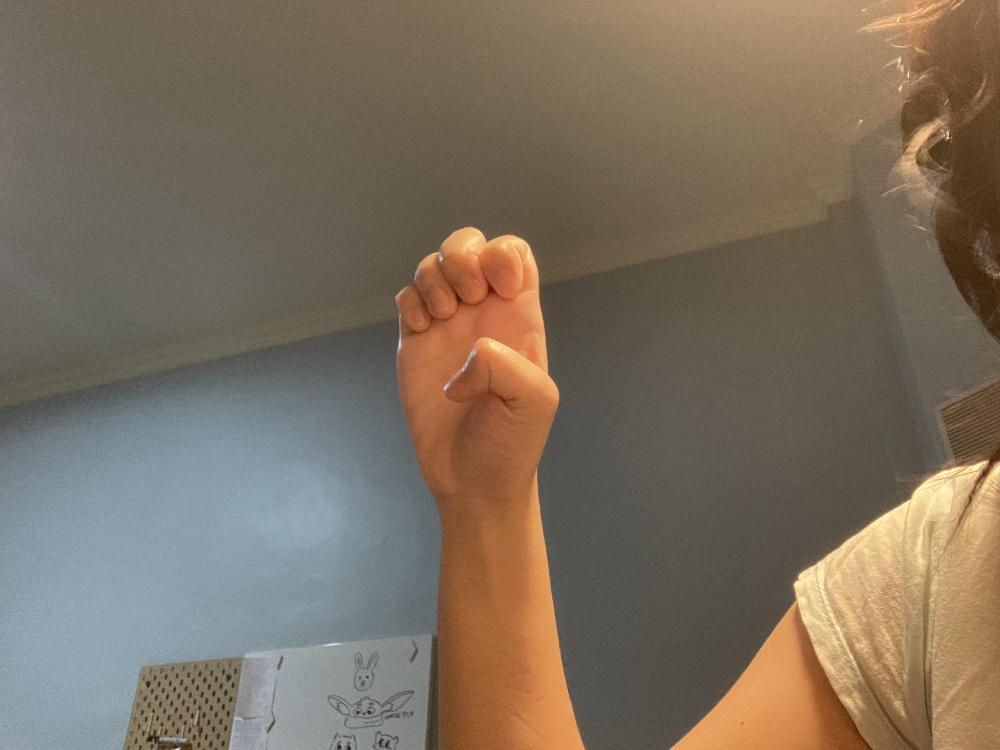e: (394, 225, 559, 505)
